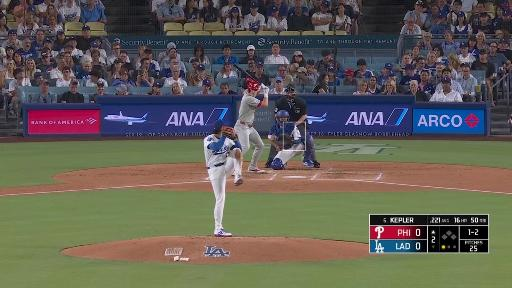pitcher: (203, 119, 244, 238)
